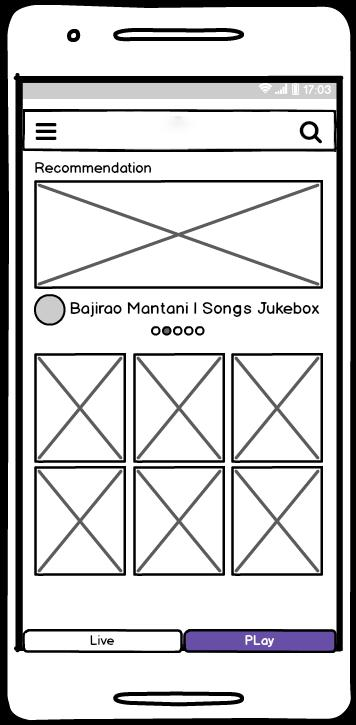Icon: (34, 294, 67, 327), (299, 122, 323, 145), (36, 123, 58, 142)
Image: (35, 181, 323, 290), (34, 353, 127, 463), (34, 466, 127, 576), (133, 353, 225, 463), (133, 466, 225, 576), (232, 354, 323, 463), (232, 467, 322, 575)
PageIndicator: (152, 326, 206, 337)
Text: (71, 301, 320, 318), (35, 162, 152, 174)
TextButton: (24, 629, 183, 653), (185, 629, 336, 653)
